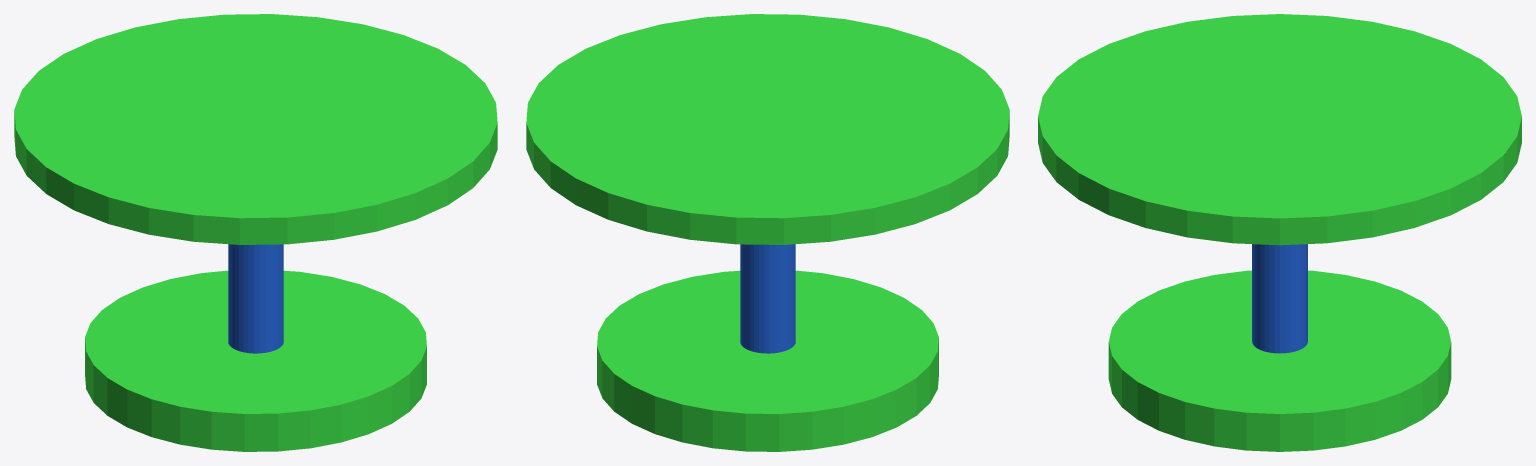
Rendered from Dining table.fbx.
3 views of the same model, side by side, from view 1: azimuth 30°, elevation 25°; view 2: azimuth 150°, elevation 25°; view 3: azimuth 270°, elevation 25° (orthographic).
Visible parts, largest first — view 1: Table, Table stand, Table Leg; view 2: Table, Table stand, Table Leg; view 3: Table, Table stand, Table Leg.
Boxes of the visible parts, left/top/right/bottom form: Table: left=14, top=14, right=497, bottom=244; Table stand: left=85, top=270, right=426, bottom=451; Table Leg: left=228, top=244, right=283, bottom=353; Table: left=526, top=14, right=1009, bottom=244; Table stand: left=597, top=270, right=938, bottom=451; Table Leg: left=740, top=244, right=795, bottom=353; Table: left=1038, top=14, right=1521, bottom=245; Table stand: left=1108, top=270, right=1451, bottom=451; Table Leg: left=1252, top=244, right=1307, bottom=353.
Bounding box in the file's own units: 174 × 104 × 174.
